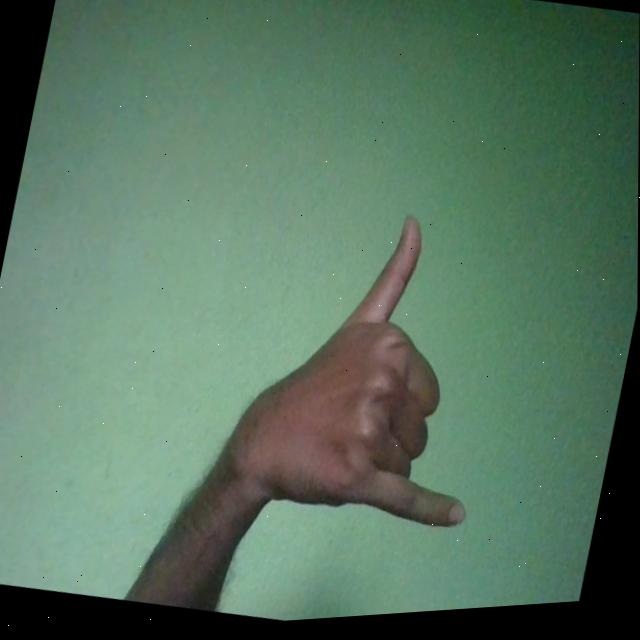Call Me: (210, 185, 523, 549)
